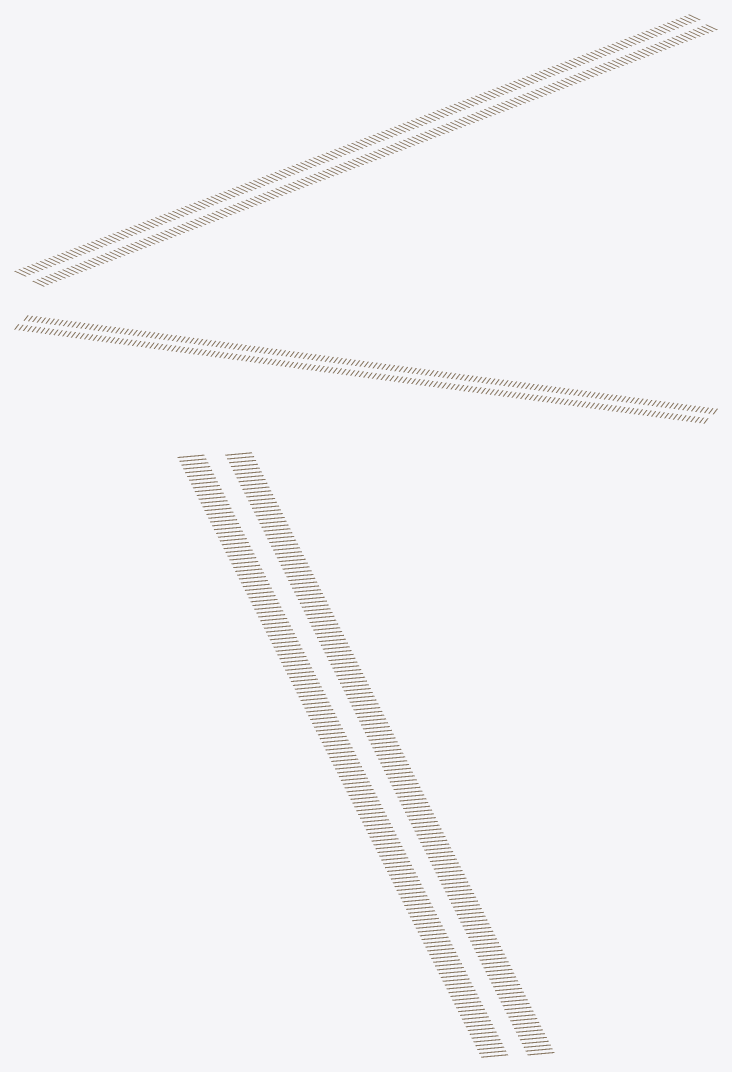
File: c_1621_17836_rail_sleeper.glb
3 views of the same model, one above another, from view 1: azimuth 30°, elevation 25°; view 2: azimuth 150°, elevation 25°; view 3: azimuth 270°, elevation 25° (orthographic). The views are drawn at different scales.
Visible parts, largest first — view 1: geometry_0; view 2: geometry_0; view 3: geometry_0.
Part boxes in pixels (x1,y1,x2,y2): geometry_0: [14, 14, 717, 286]; geometry_0: [14, 315, 717, 423]; geometry_0: [177, 452, 554, 1057].
Bounding box in the file's own units: 125 × 0.1188 × 32.92.
